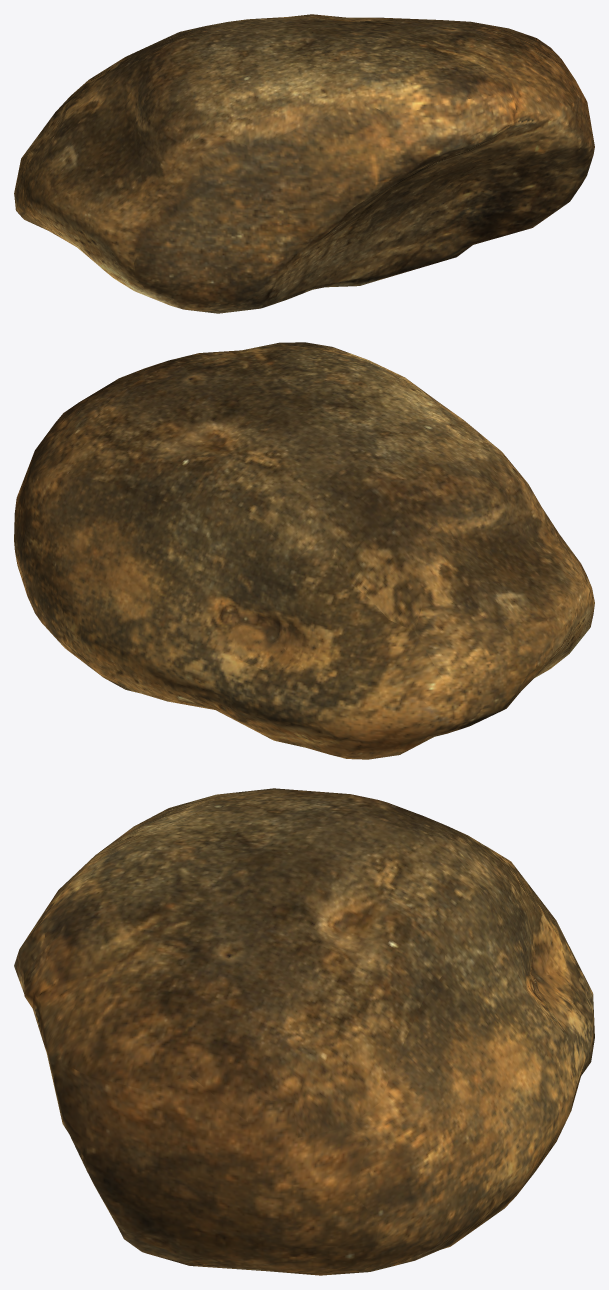
The model's file is lomekwian.glb.
The picture shows the model from 3 angles, top to bottom: view 1: azimuth 30°, elevation 25°; view 2: azimuth 150°, elevation 25°; view 3: azimuth 270°, elevation 25°; orthographic projection. The views are drawn at different scales.
Size of the model in its own units: 0.1668 by 0.074 by 0.1215.
1 material, 1 textured.
